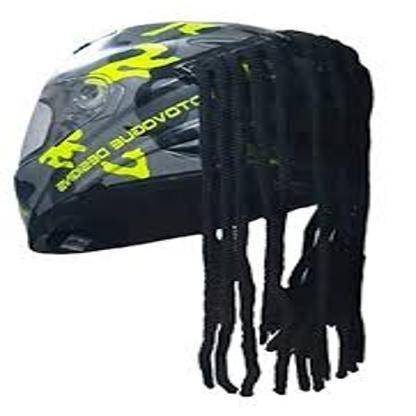not trash: (10, 18, 378, 396)
